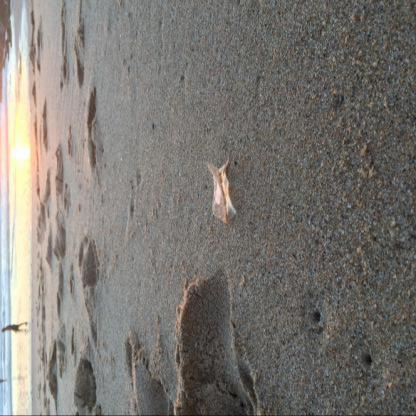Plastic bag - wrapper: (206, 158, 235, 224)
